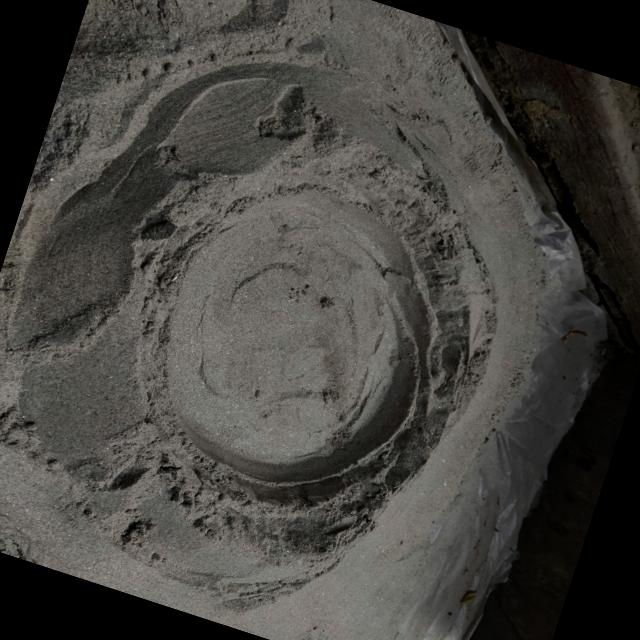C40: (167, 187, 450, 482)
